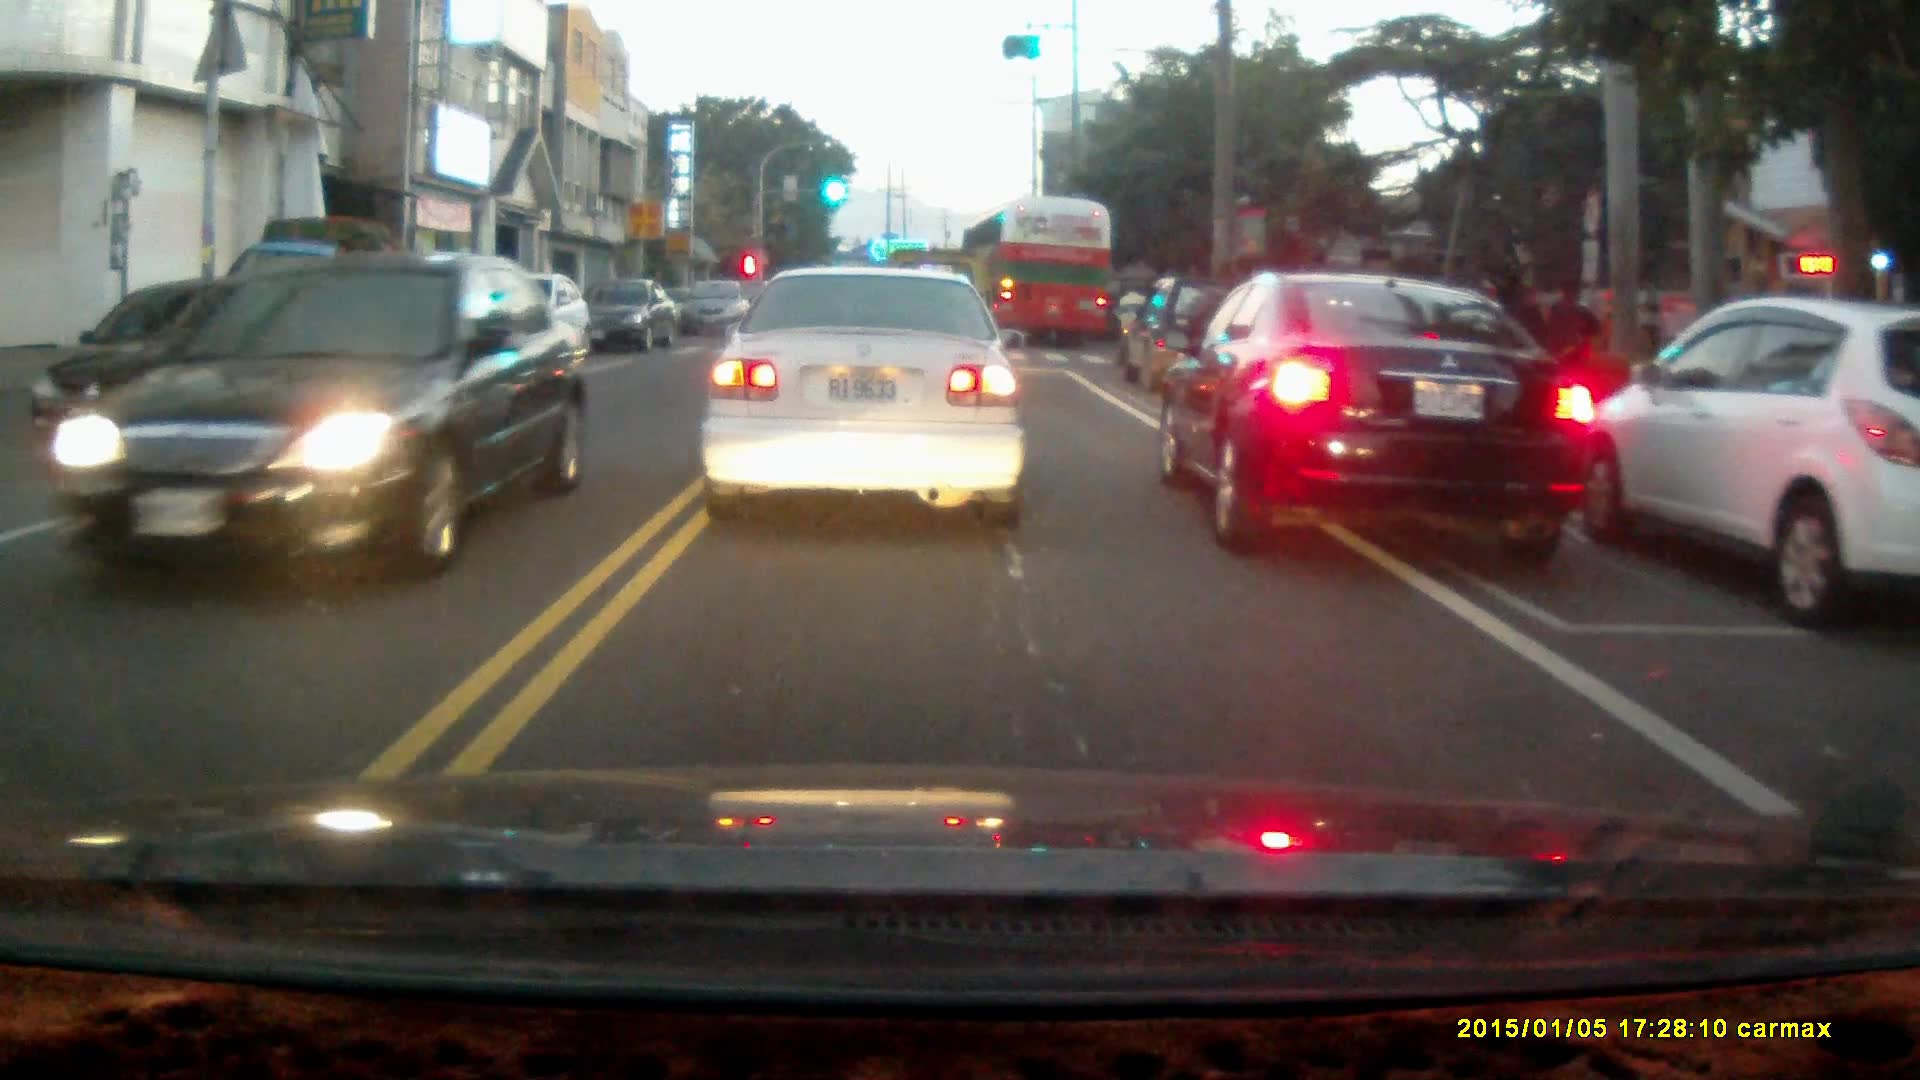pedestrian: (1541, 274, 1600, 415), (1487, 275, 1536, 419)
rider: (1114, 281, 1151, 359)
vehicle: (47, 253, 571, 594), (1157, 274, 1601, 558), (1561, 295, 1920, 624), (700, 264, 1028, 530), (209, 218, 442, 404), (962, 204, 1112, 355), (1123, 279, 1285, 400), (574, 277, 681, 359), (681, 282, 754, 341)
